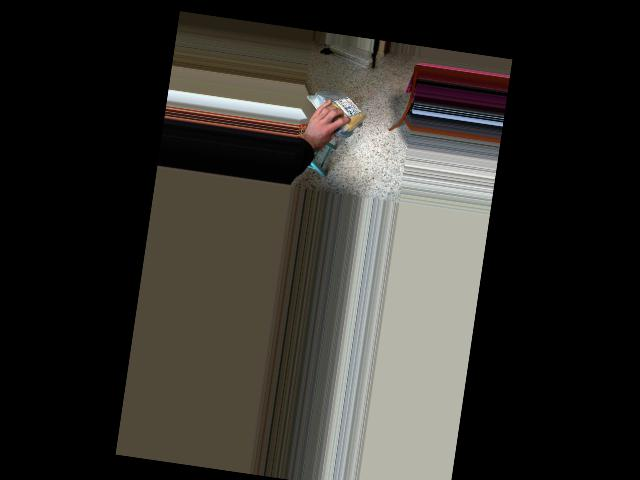cheese: (303, 90, 375, 129)
